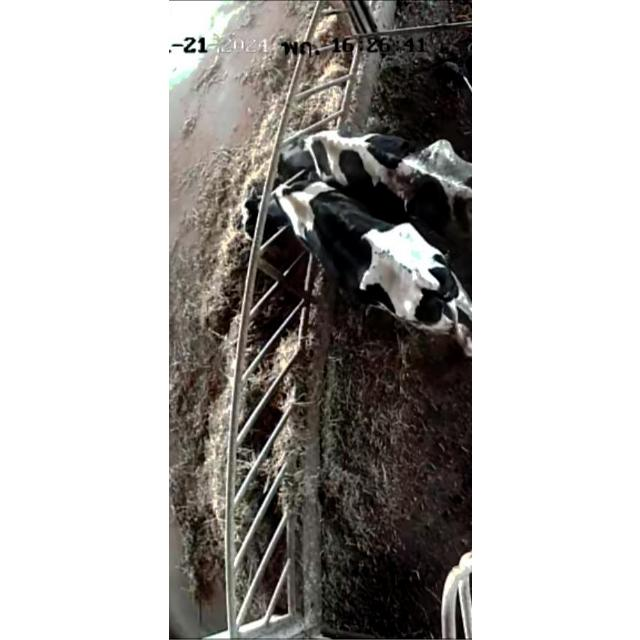eat: (225, 175, 351, 245), (240, 118, 366, 168)
